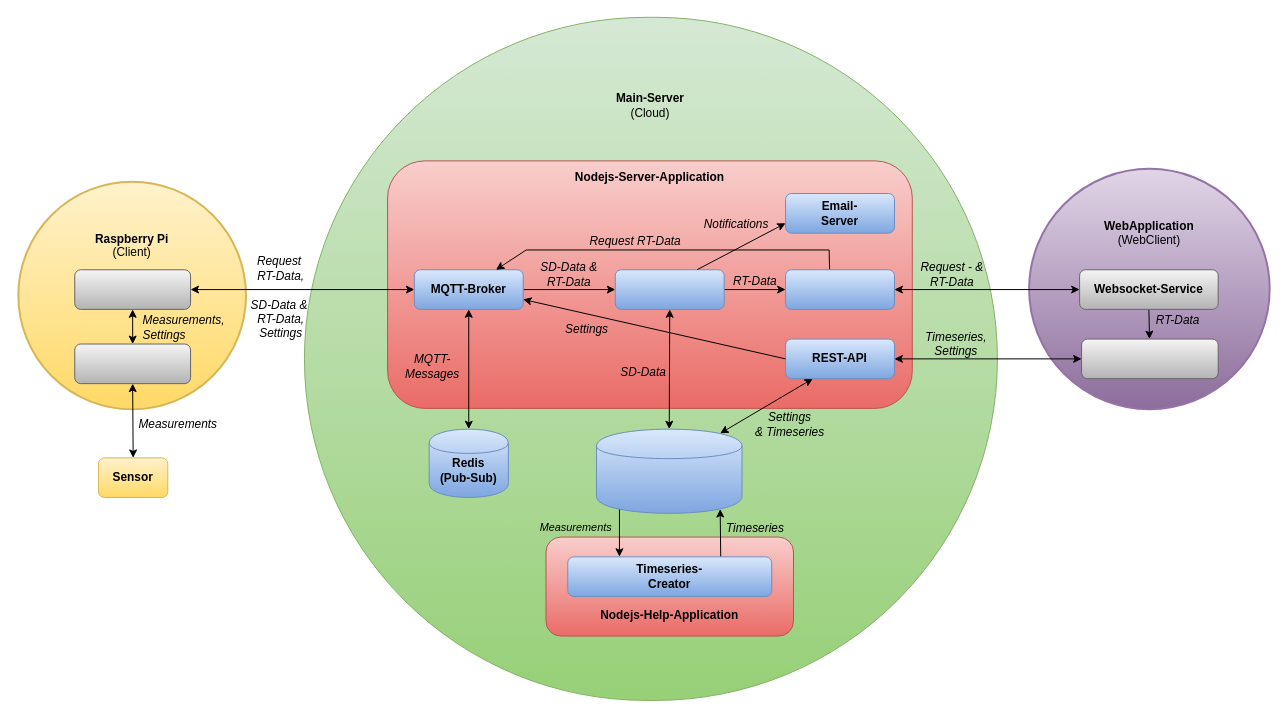
Image size: 1287x718. Some labels were removed from this diagram. Each missing label, with the centre of its shape:
"App- Services & Controllers" belongs at point 1149,358.
"MQTT-Publisher" belongs at point 132,289.
"Post- Processing" belongs at point 669,289.
"PostgreSQL (PostGIS Extension)" belongs at point 668,470.
"Sensor- Controller" belongs at point 132,363.
"Websocket- Server" belongs at point 839,289.
